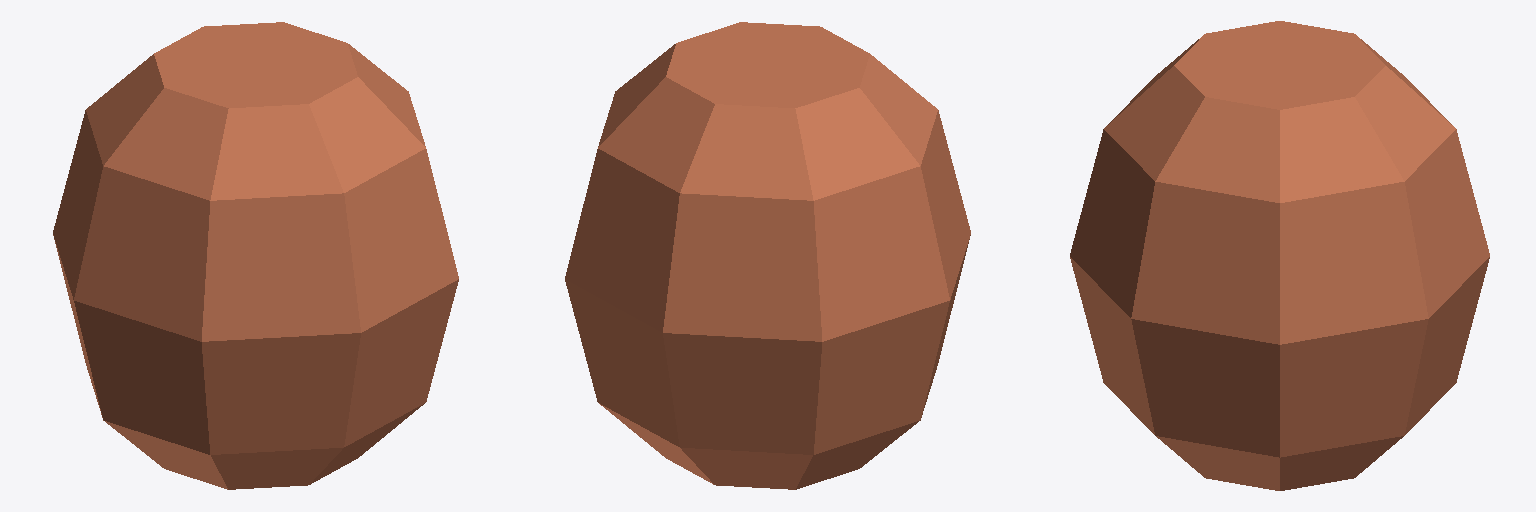
File: coconut.obj
The picture shows the model from 3 angles: view 1: azimuth 30°, elevation 25°; view 2: azimuth 150°, elevation 25°; view 3: azimuth 270°, elevation 25°; orthographic projection.
Parts seen in each view (by area): view 1: coconut; view 2: coconut; view 3: coconut.
Part boxes in pixels (x1,y1,x2,y2): coconut: (53, 22, 458, 489); coconut: (565, 22, 970, 489); coconut: (1070, 21, 1489, 490).
Size of the model in its own units: 0.2484 by 0.2484 by 0.2484.